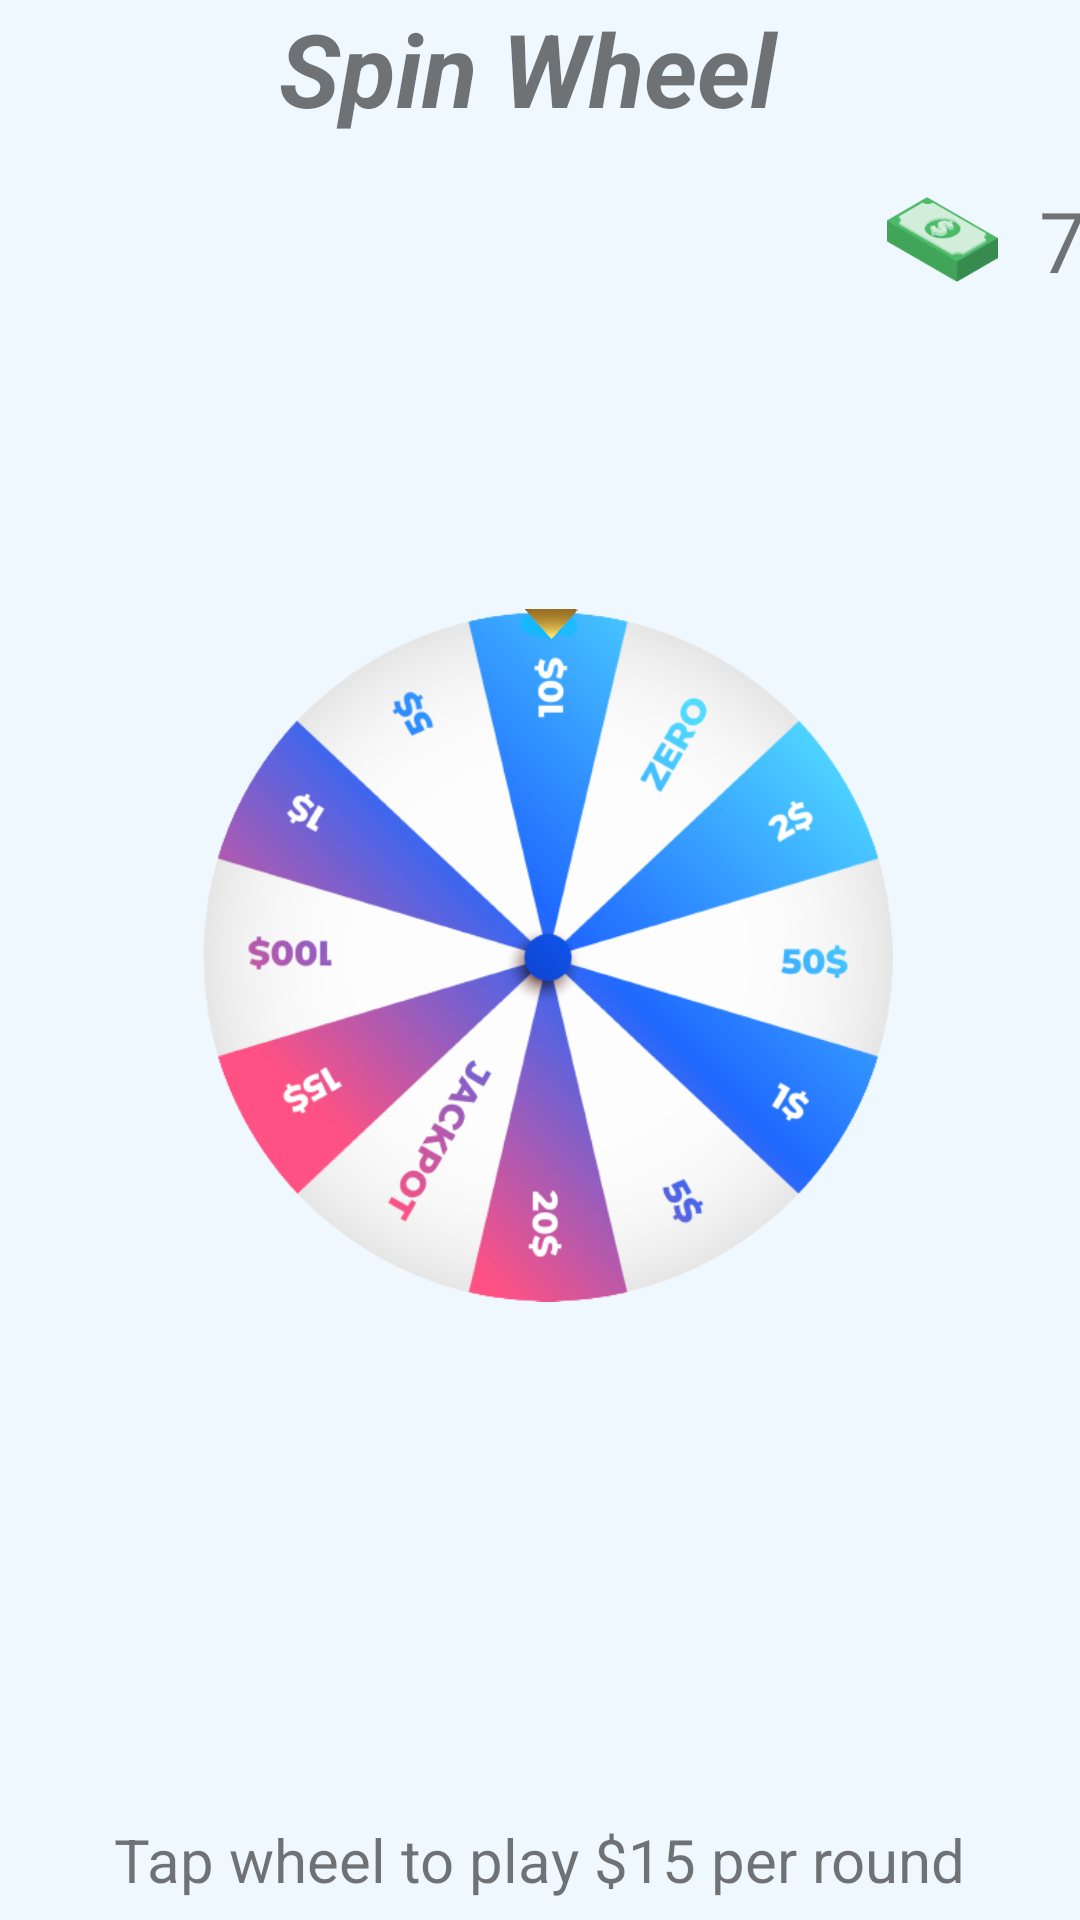

Where to tap for icons on this 1080 × 1920 app screen, as [x,y]:
money: [942,239]
